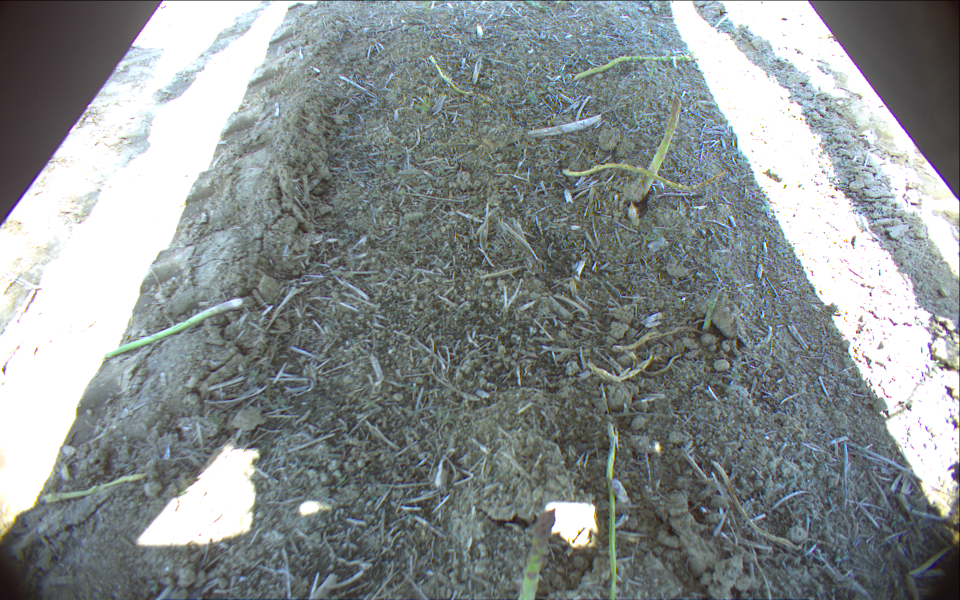aspa: (94, 297, 243, 359), (635, 93, 682, 203), (561, 162, 726, 189), (518, 508, 555, 600), (571, 53, 697, 80), (31, 475, 145, 504), (428, 53, 494, 101), (605, 421, 617, 600), (700, 285, 719, 335)
